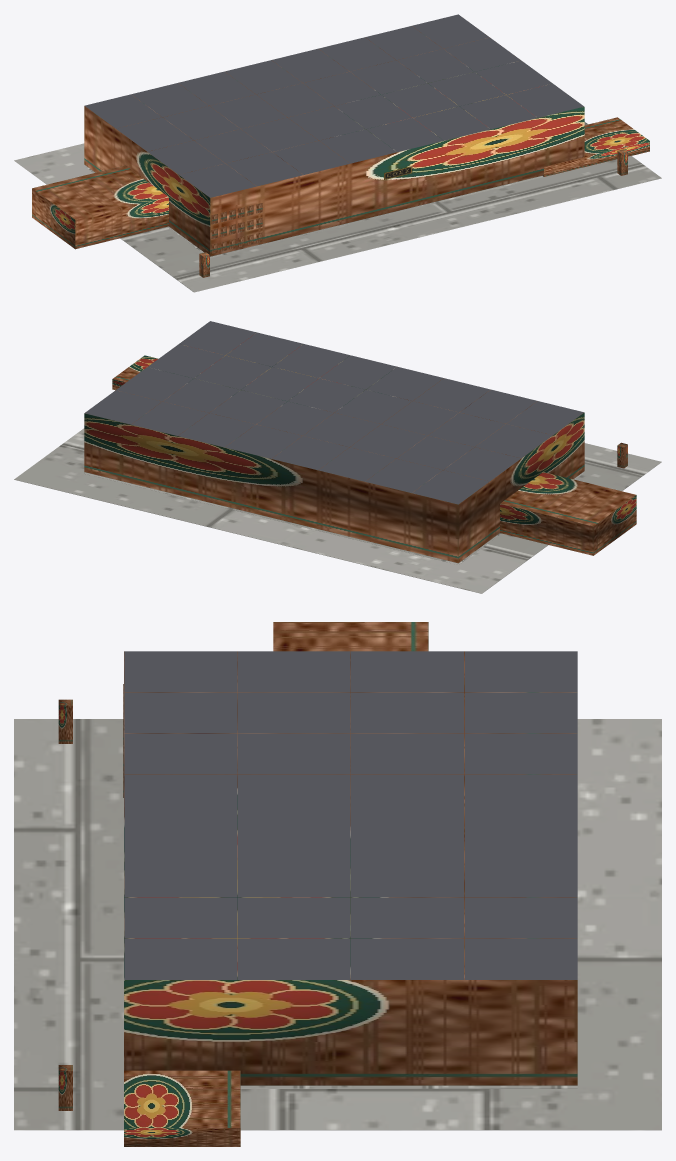
3 views of the same model, one above another, from view 1: azimuth 30°, elevation 25°; view 2: azimuth 150°, elevation 25°; view 3: azimuth 270°, elevation 25° (orthographic). The views are drawn at different scales.
Visible parts, largest first — view 1: 11680_01_06238_000_03_L2__roof, 11680_01_06238_000_02_L2__body, 11680_01_06238_000_01_L2__base, 11680_01_06238_000_05_L2__openings, 11680_01_06238_000_06_L2__green; view 2: 11680_01_06238_000_03_L2__roof, 11680_01_06238_000_02_L2__body, 11680_01_06238_000_01_L2__base; view 3: 11680_01_06238_000_03_L2__roof, 11680_01_06238_000_01_L2__base, 11680_01_06238_000_02_L2__body, 11680_01_06238_000_06_L2__green.
Part boxes in pixels (bbox=[...]): 11680_01_06238_000_03_L2__roof: bbox=[85, 14, 583, 197]; 11680_01_06238_000_02_L2__body: bbox=[32, 26, 649, 256]; 11680_01_06238_000_01_L2__base: bbox=[14, 122, 661, 292]; 11680_01_06238_000_05_L2__openings: bbox=[211, 203, 262, 253]; 11680_01_06238_000_06_L2__green: bbox=[199, 149, 627, 277]; 11680_01_06238_000_03_L2__roof: bbox=[84, 321, 583, 504]; 11680_01_06238_000_02_L2__body: bbox=[84, 332, 636, 563]; 11680_01_06238_000_01_L2__base: bbox=[14, 428, 661, 593]; 11680_01_06238_000_03_L2__roof: bbox=[124, 651, 577, 979]; 11680_01_06238_000_01_L2__base: bbox=[14, 719, 661, 1130]; 11680_01_06238_000_02_L2__body: bbox=[124, 622, 577, 1146]; 11680_01_06238_000_06_L2__green: bbox=[58, 699, 72, 1110].
Size of the model in its own units: 171 by 18.62 by 100.
Materials: 5 (5 with a texture image).
